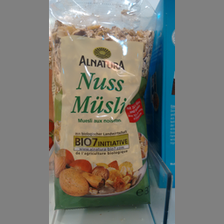cereal: (49, 20, 156, 210)
